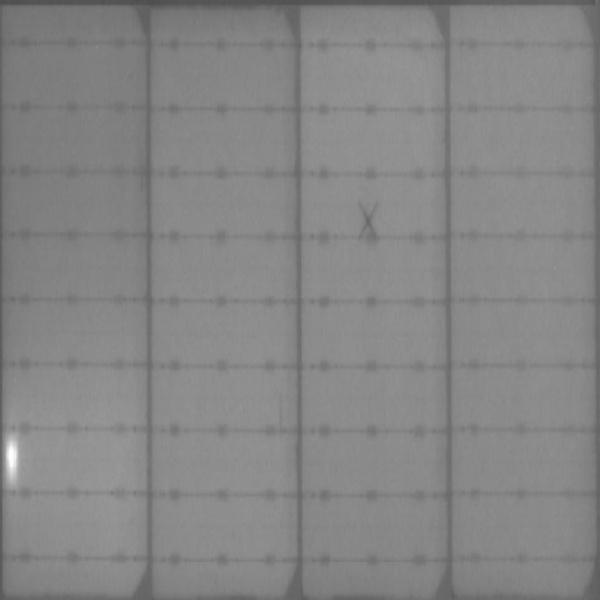hot_spot: (6, 438, 16, 477)
scratch: (356, 200, 380, 242)
